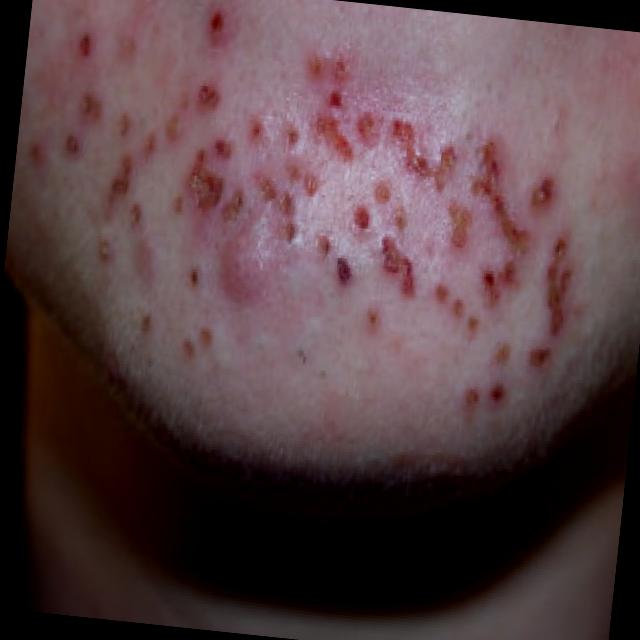blackhead: (293, 346, 309, 366), (316, 367, 328, 381)
nodule: (218, 224, 276, 307)
